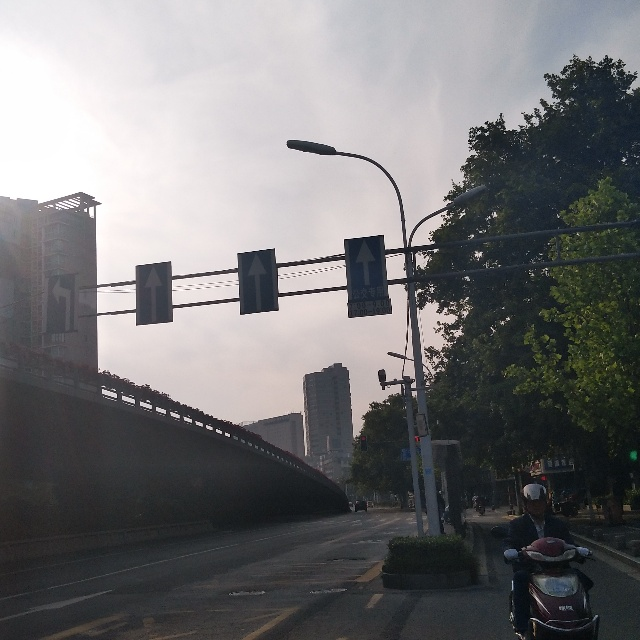left: (41, 270, 79, 336)
straight: (343, 235, 389, 303), (236, 249, 282, 315), (136, 262, 173, 323)
